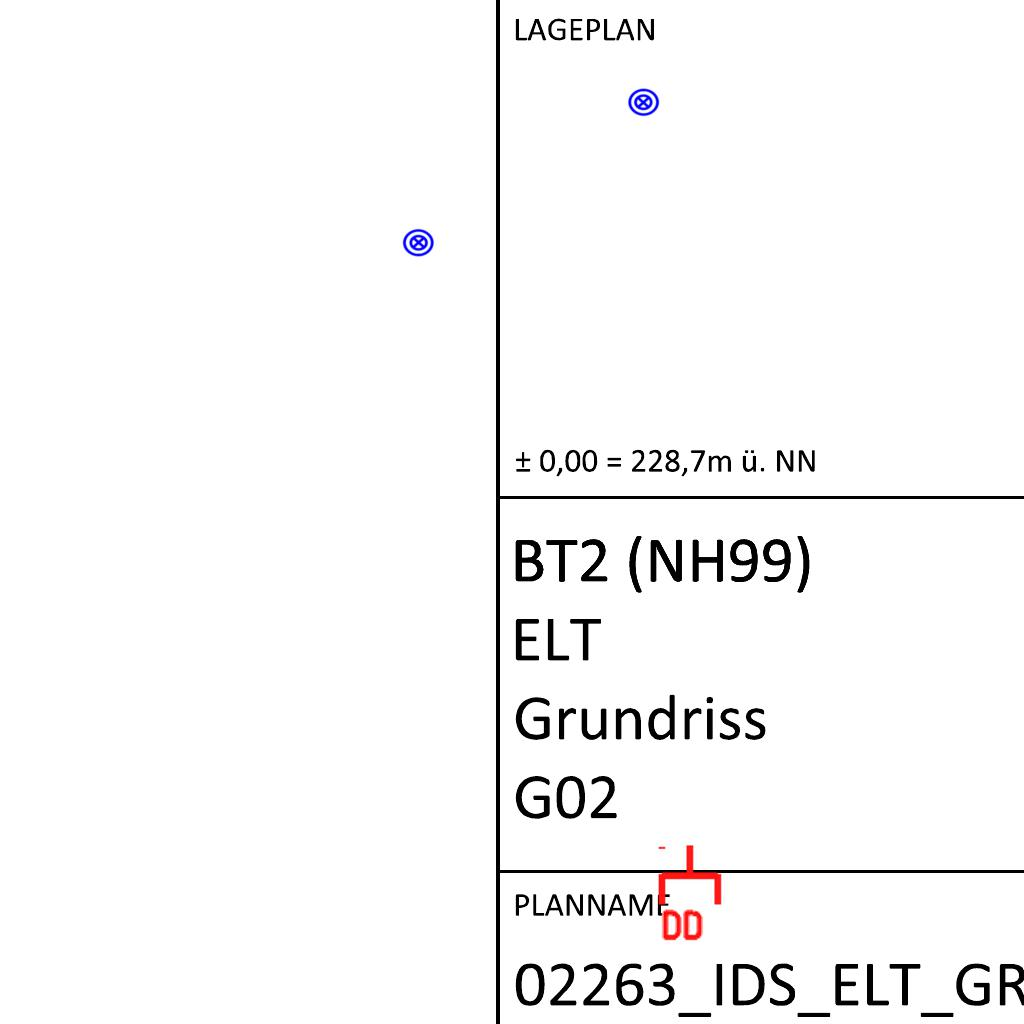Datenanschluss_zweifach: (657, 842, 726, 945)
Taster_beleuchtet: (627, 86, 660, 119), (402, 226, 435, 259)
